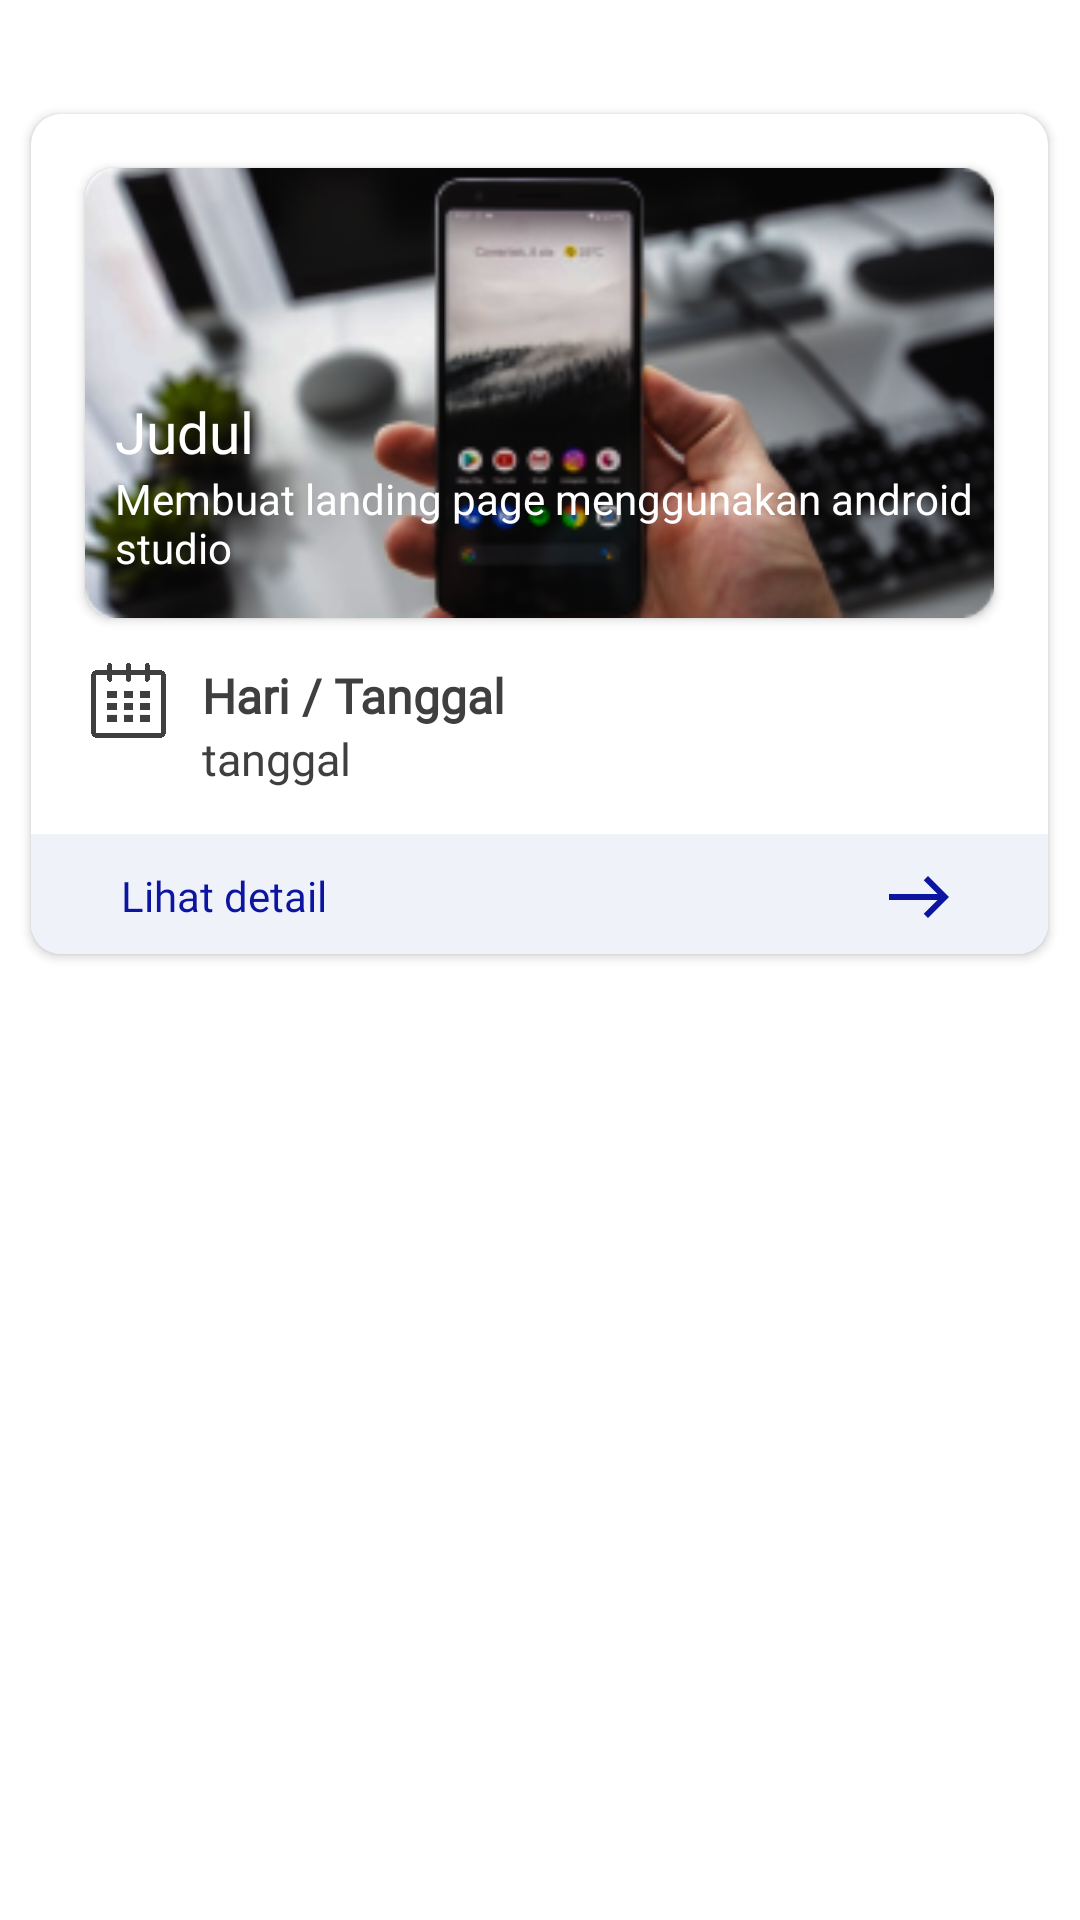

Icons on this 1080x1920 Android screen, each with the point to tap as (x,y):
date: (128,700)
east: (919,897)
